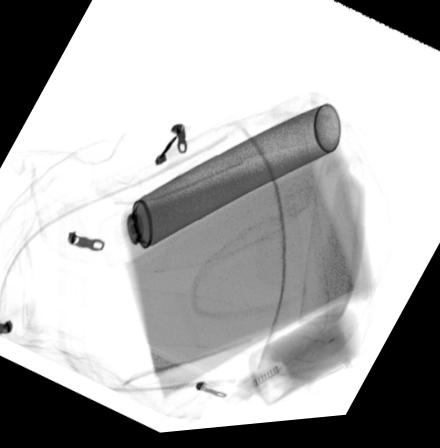Sprayer: (95, 107, 342, 270)
